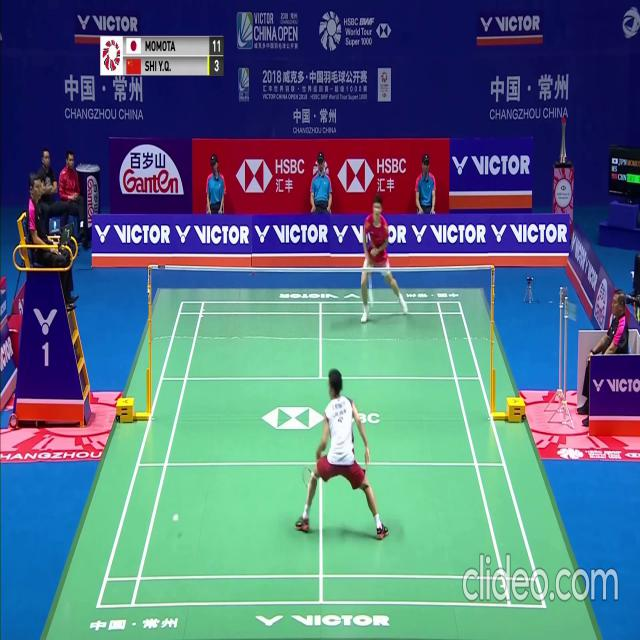Shuttlecock: (172, 515, 176, 522)
